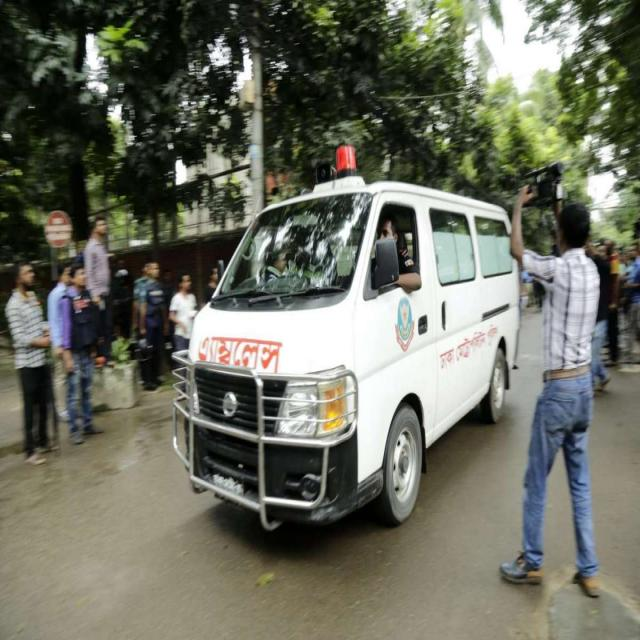microbus: (171, 151, 526, 548)
